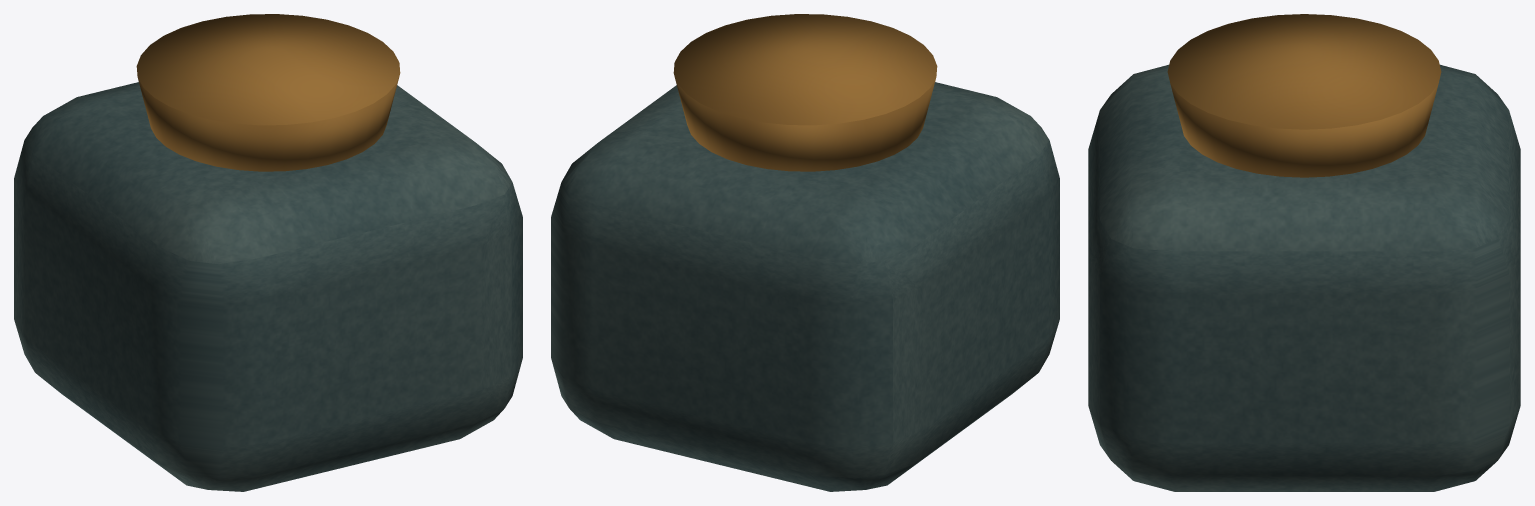
The model's file is Inkpot.fbx.
The picture shows the model from 3 angles, left to right: view 1: azimuth 30°, elevation 25°; view 2: azimuth 150°, elevation 25°; view 3: azimuth 270°, elevation 25°; orthographic projection. The views are drawn at different scales.
Parts seen in each view (by area): view 1: Inkpot_GlassPatina, Inkpot_Brass; view 2: Inkpot_GlassPatina, Inkpot_Brass; view 3: Inkpot_GlassPatina, Inkpot_Brass.
Boxes of the visible parts, left/top/right/bottom form: Inkpot_GlassPatina: left=14, top=82, right=522, bottom=491; Inkpot_Brass: left=136, top=14, right=400, bottom=171; Inkpot_GlassPatina: left=551, top=82, right=1059, bottom=491; Inkpot_Brass: left=673, top=14, right=937, bottom=171; Inkpot_GlassPatina: left=1088, top=64, right=1520, bottom=491; Inkpot_Brass: left=1167, top=14, right=1441, bottom=177.
Bounding box in the file's own units: 12 × 11.55 × 12.
